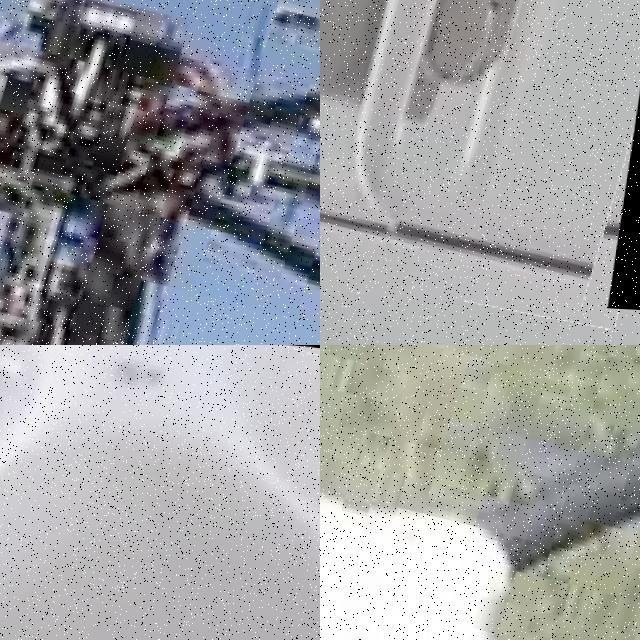0: (0, 0, 320, 345), (320, 345, 640, 640)
drone: (320, 0, 640, 310), (0, 345, 320, 640)
